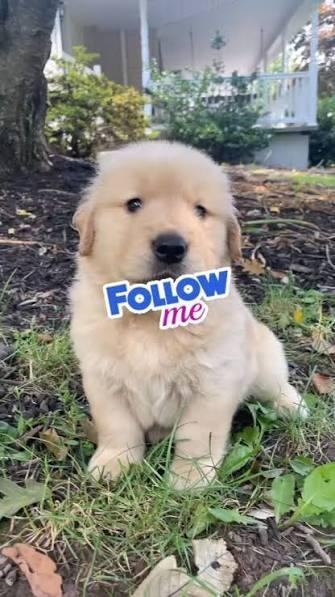puppy-dog: (72, 143, 315, 493)
